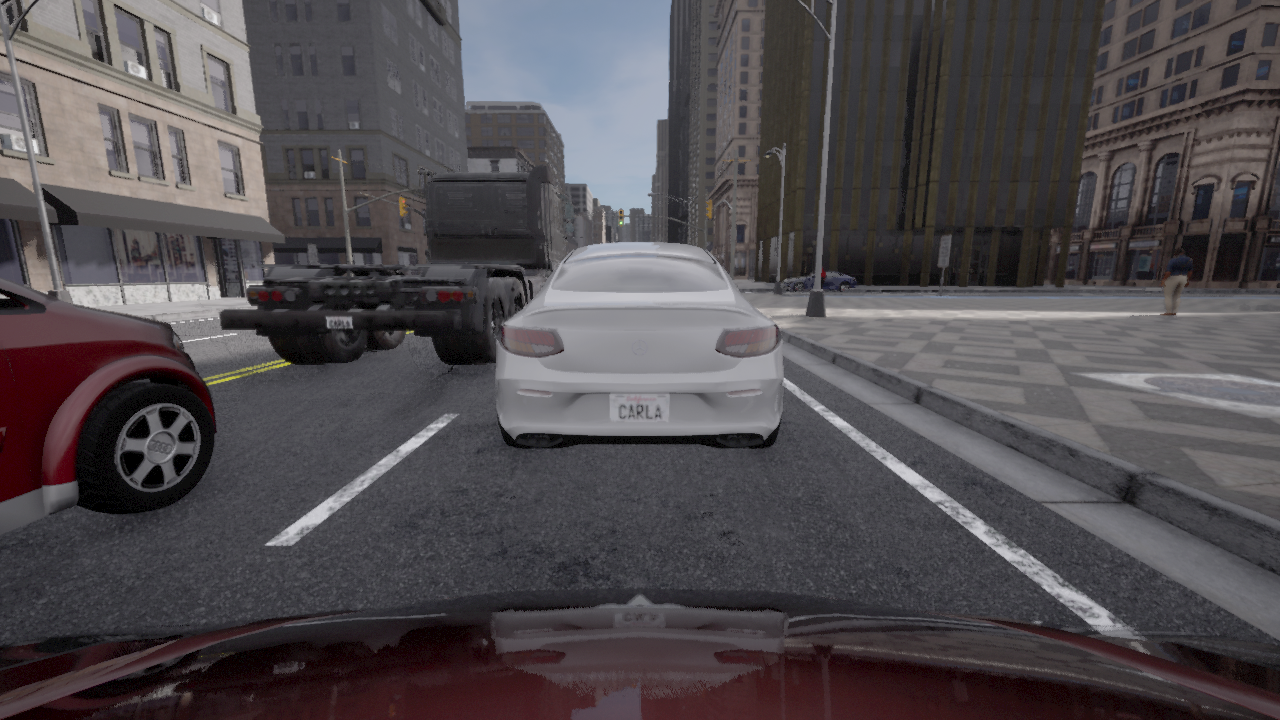cyclist: (0, 588, 1279, 719), (219, 164, 576, 363), (496, 242, 783, 448), (782, 270, 857, 292)
pedestrian: (1159, 247, 1192, 315), (820, 264, 825, 289)
